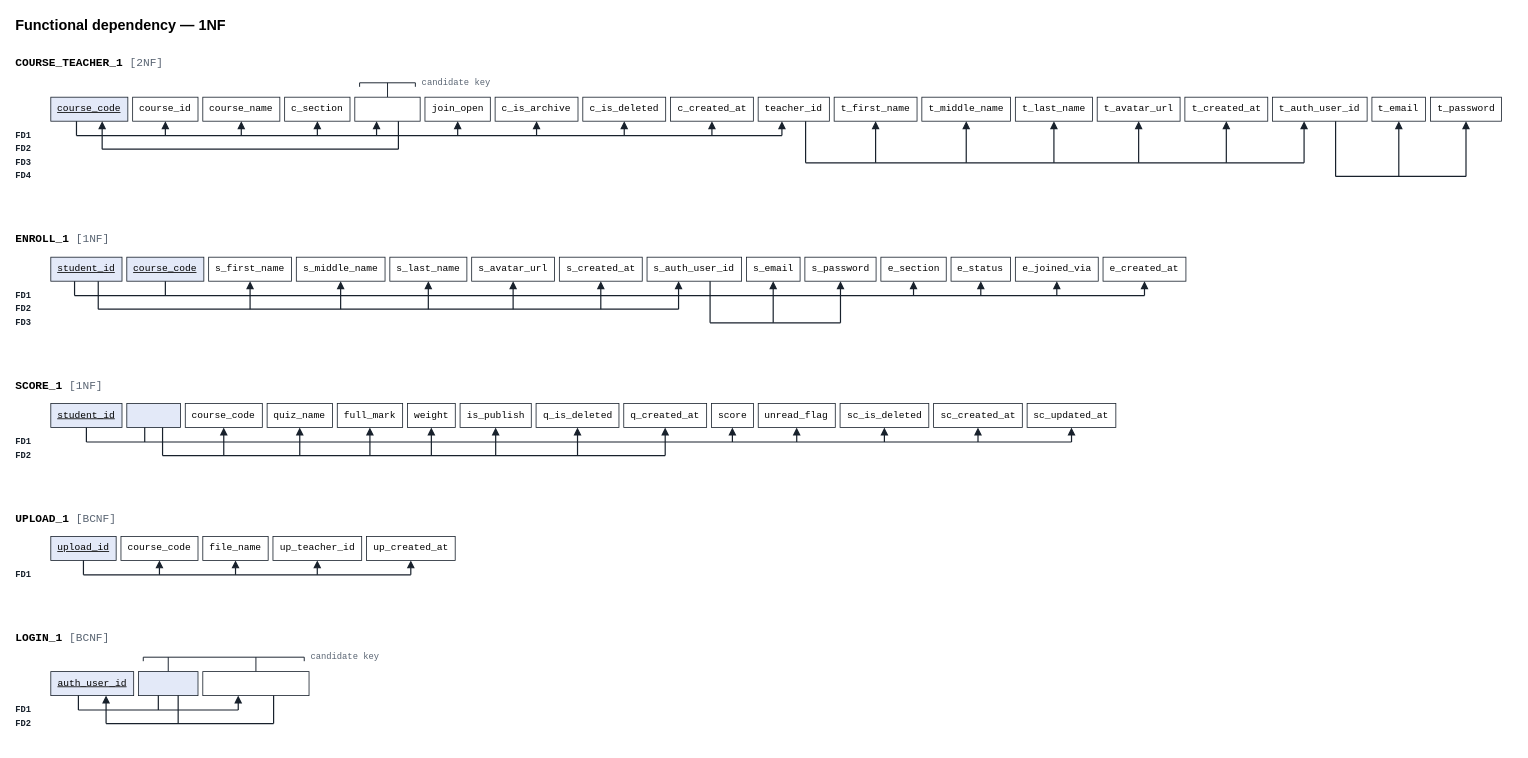
Some shapes in this 1528 by 758 pixel diagram are drawn without their labels. Here are the shapes that lost their labels. From the top down, the box of each, then its label:
(354, 96, 420, 121): join_code
(126, 403, 180, 428): quiz_id
(138, 671, 198, 696): provider
(202, 671, 309, 696): provider_user_id
